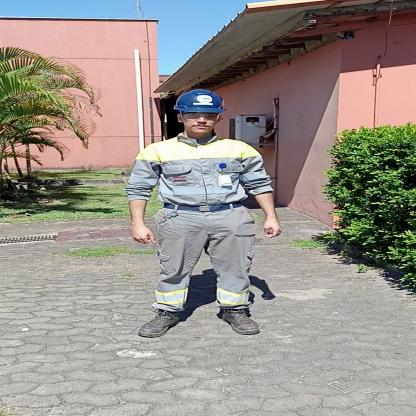Capacete: (171, 86, 224, 111)
